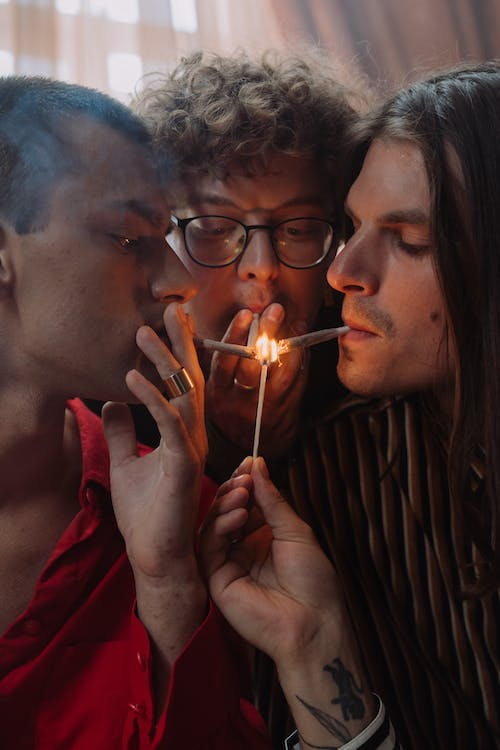cigarette: (278, 322, 353, 357), (189, 331, 264, 362), (244, 308, 261, 357)
